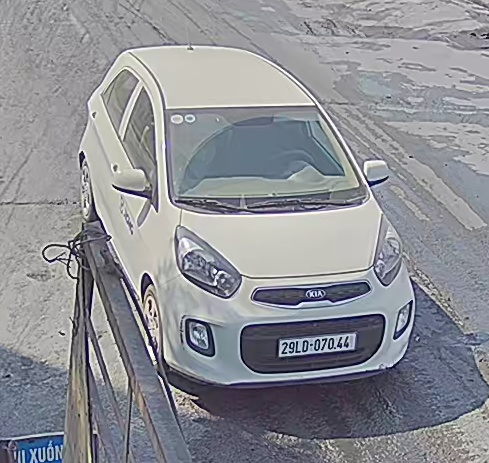vehicle plate: (276, 336, 356, 356)
